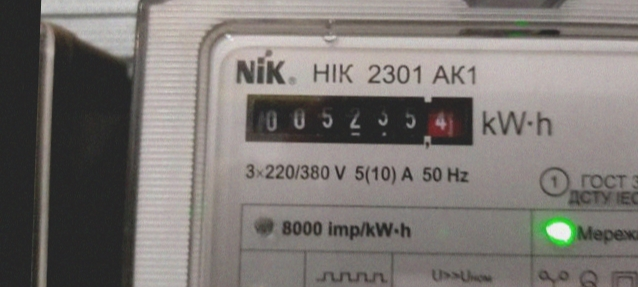0: (261, 106, 277, 132), (289, 105, 305, 130)
2: (344, 103, 361, 130)
3: (371, 101, 389, 127)
4: (429, 104, 448, 133)
5: (399, 101, 416, 130), (317, 103, 332, 129)
screen: (229, 77, 482, 158)
